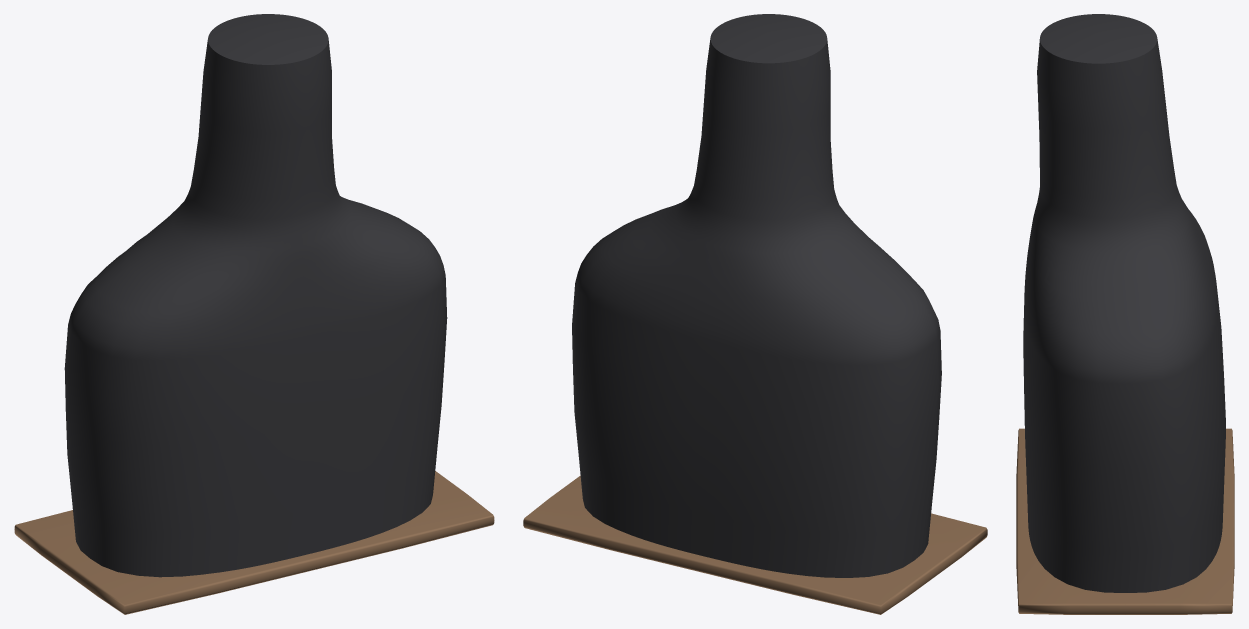
Rendered from NecklaceBust.obj.
3 views of the same model, side by side, from view 1: azimuth 30°, elevation 25°; view 2: azimuth 150°, elevation 25°; view 3: azimuth 270°, elevation 25° (orthographic). The views are drawn at different scales.
Visible parts, largest first — view 1: VelvetBlack, Walnut; view 2: VelvetBlack, Walnut; view 3: VelvetBlack, Walnut.
Boxes of the visible parts, bbox=[...] form: VelvetBlack: bbox=[64, 14, 447, 577]; Walnut: bbox=[14, 471, 494, 614]; VelvetBlack: bbox=[572, 14, 941, 577]; Walnut: bbox=[523, 475, 987, 614]; VelvetBlack: bbox=[1023, 14, 1225, 592]; Walnut: bbox=[1016, 428, 1234, 614].
Size of the model in its own units: 0.25 by 0.326 by 0.13.
